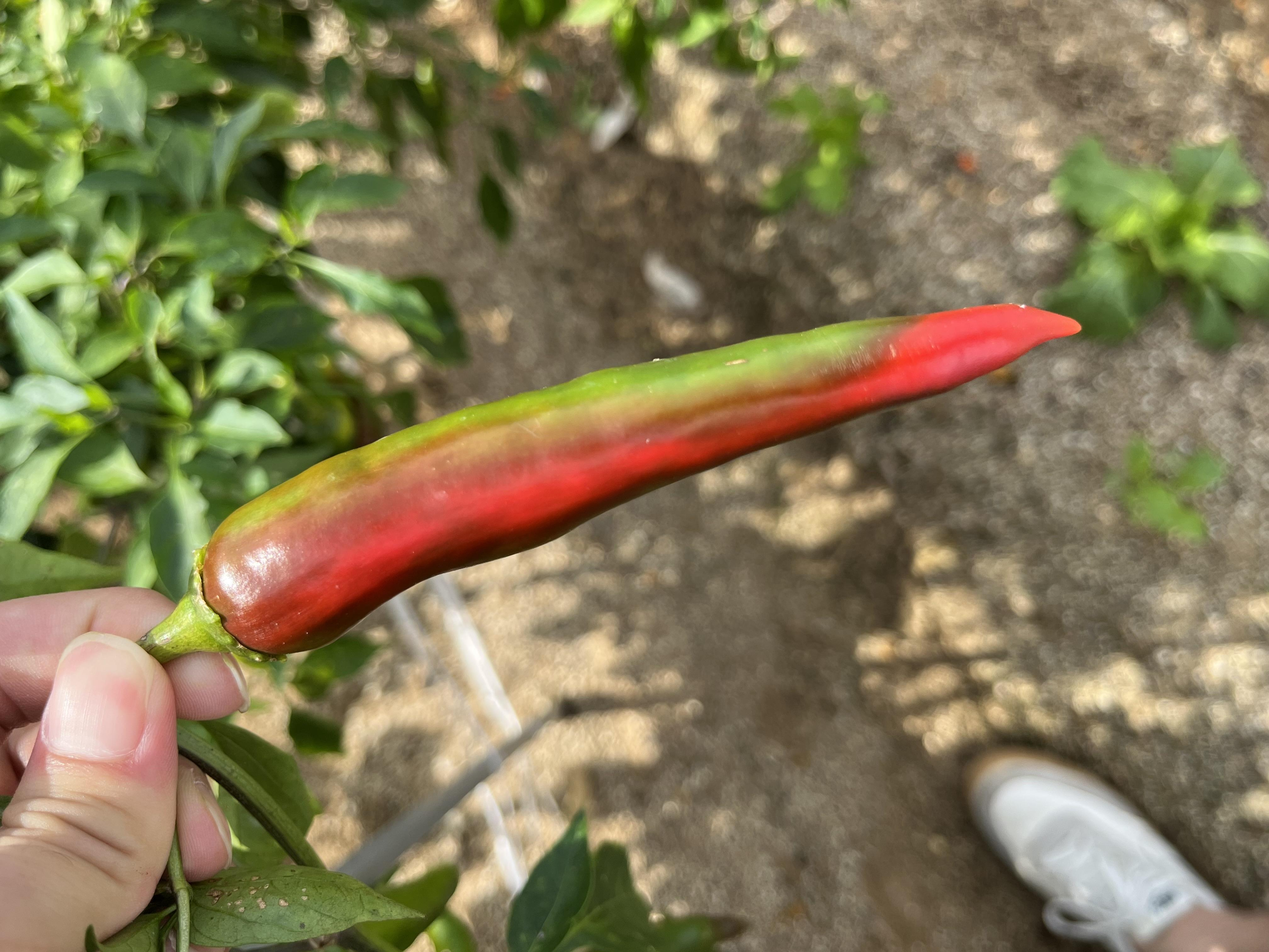Buah Cabai Sehat: (353, 135, 877, 817)
